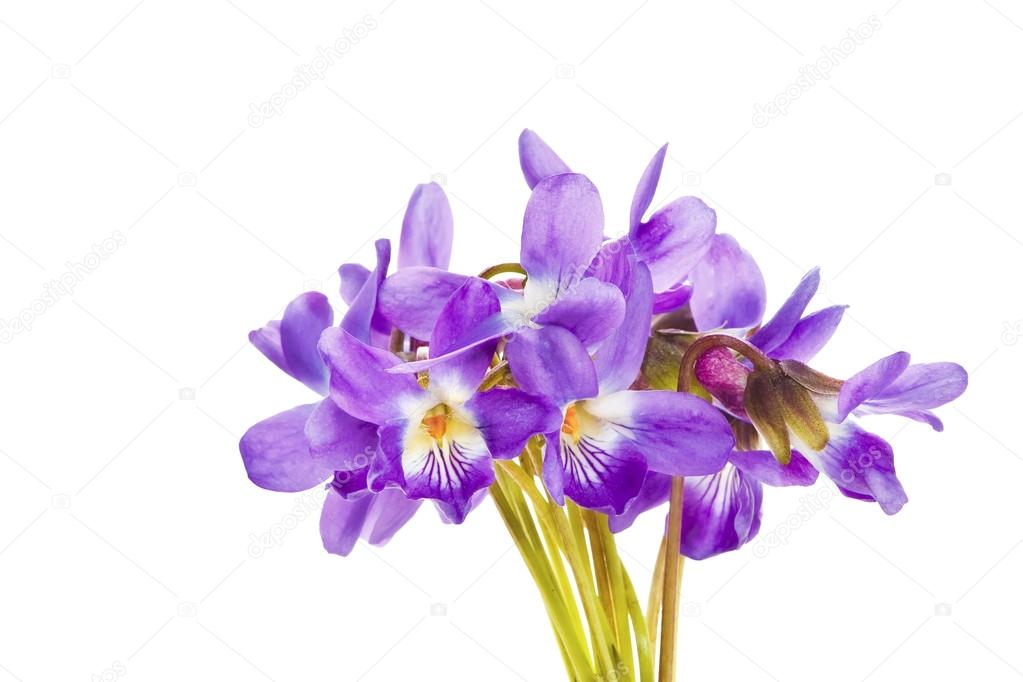violet: (206, 153, 957, 542)
